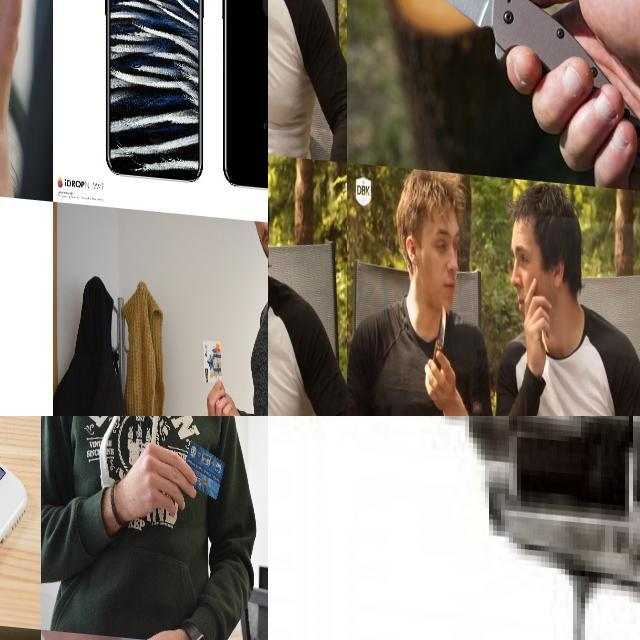-: (364, 0, 576, 94), (423, 286, 456, 403), (268, 0, 284, 85), (268, 377, 286, 416)
gun-knife-thesis - v11 Yolov5 augmented: (268, 416, 640, 640)
